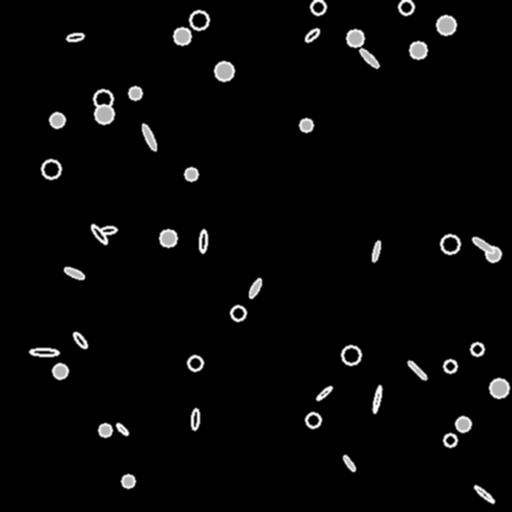pseudomonas: (140, 123, 158, 151), (358, 47, 380, 69), (406, 359, 428, 381), (471, 235, 495, 255), (473, 484, 495, 504), (90, 224, 108, 244), (63, 266, 85, 280), (303, 27, 321, 43), (72, 331, 88, 349), (315, 385, 333, 401), (248, 278, 262, 298), (372, 386, 382, 412), (342, 454, 356, 472), (30, 348, 58, 356), (371, 240, 381, 262), (115, 422, 129, 436), (66, 32, 84, 42), (191, 408, 199, 430), (199, 230, 207, 252), (99, 226, 117, 234)
synechocystis: (342, 346, 360, 364), (490, 379, 508, 397), (94, 90, 112, 108), (190, 11, 208, 29), (95, 105, 113, 123), (42, 160, 60, 178), (441, 235, 459, 253), (437, 16, 455, 34), (215, 62, 233, 80), (174, 28, 190, 44), (347, 30, 363, 46), (410, 42, 426, 58), (160, 230, 176, 246), (456, 417, 470, 431), (53, 364, 67, 378), (188, 356, 202, 370), (399, 0, 413, 14), (306, 413, 320, 427), (311, 0, 325, 14), (231, 306, 245, 320), (50, 113, 64, 127), (486, 247, 500, 261), (129, 87, 141, 99), (122, 475, 134, 487), (444, 360, 456, 372), (444, 434, 456, 446), (300, 119, 312, 131), (99, 424, 111, 436), (185, 168, 197, 180), (471, 343, 483, 355)
